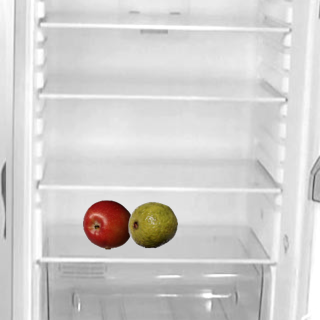Apple Braeburn: (82, 199, 132, 249)
Guava: (127, 199, 177, 249)
